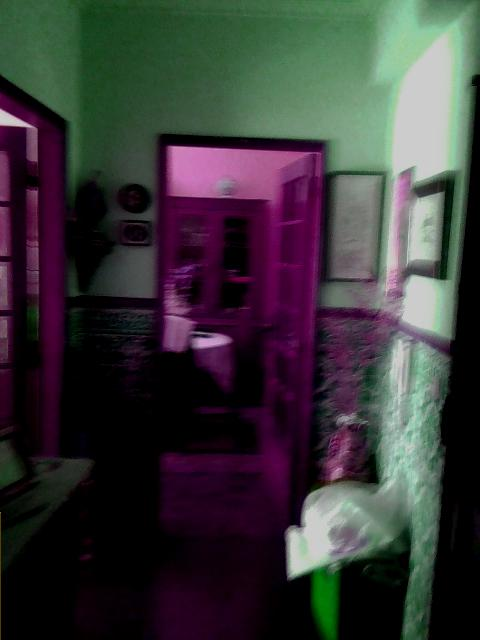open_door: (151, 132, 328, 550)
